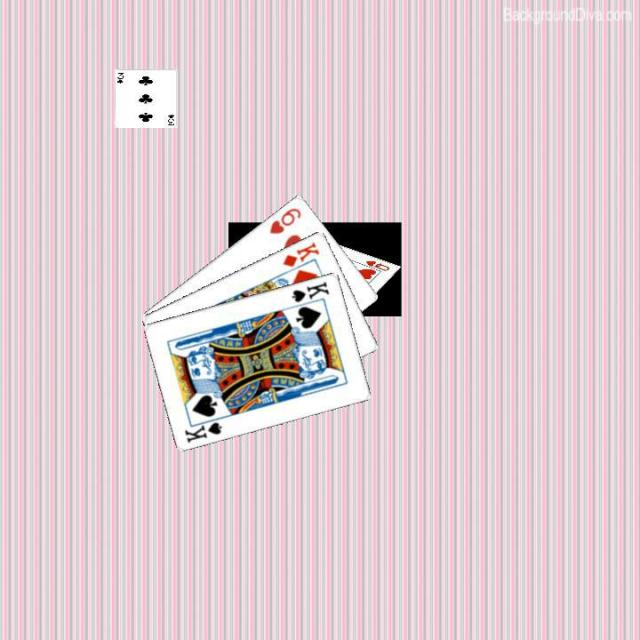6H: (266, 203, 303, 236)
KD: (278, 238, 321, 268)
KS: (181, 412, 225, 444), (288, 277, 331, 304)
